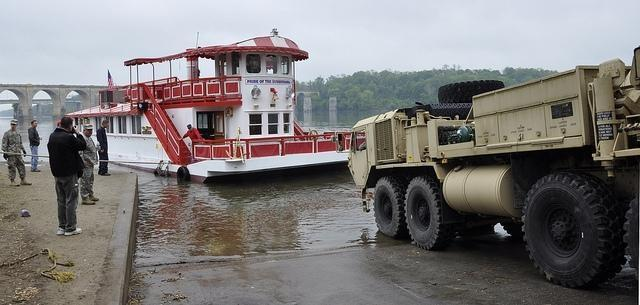truck: (342, 47, 640, 287)
